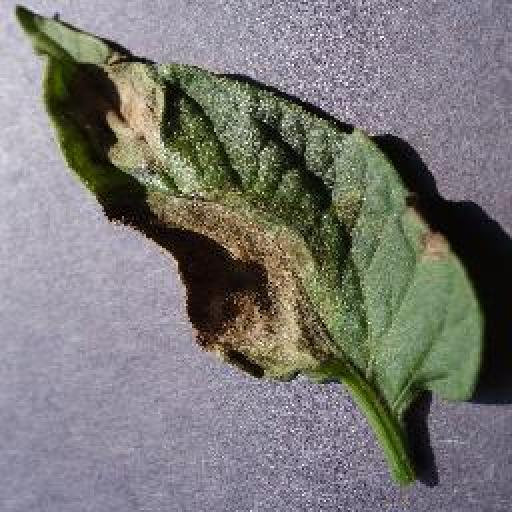Late Blight: (10, 2, 486, 414)
